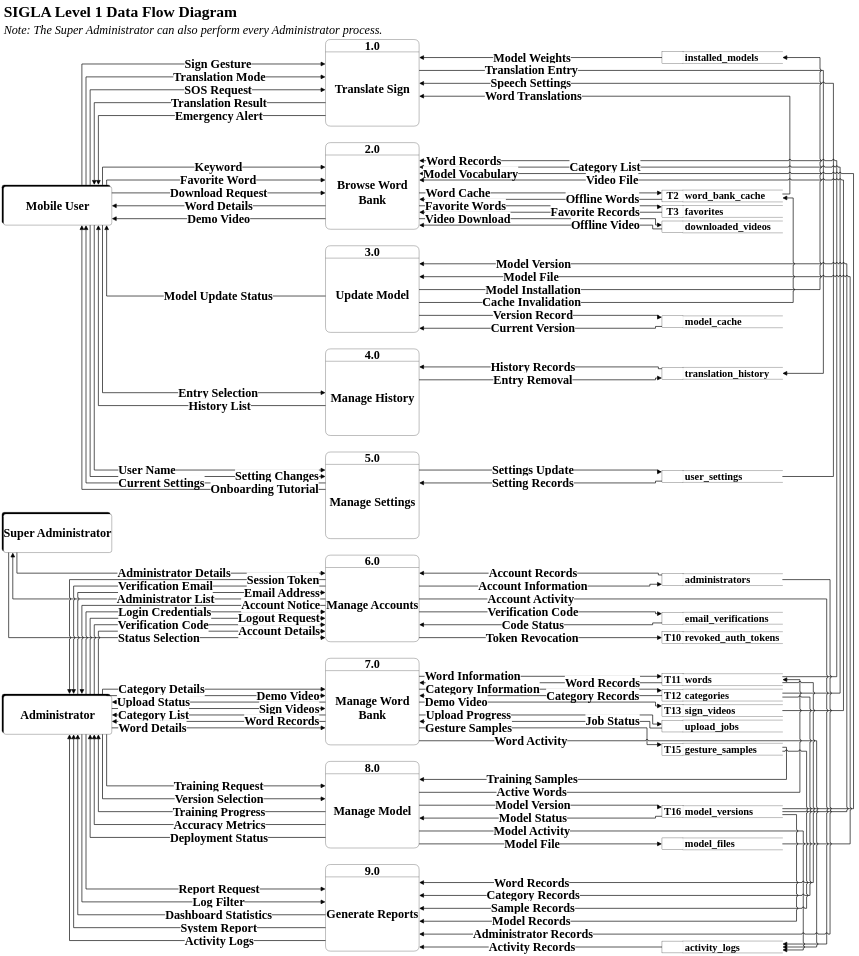
This 859x956 diagram has some shape labels left out. Here are the shapes that lost their labels. From the top down, the centre of each, then its label:
[672,57]: T1
[672,227]: T4
[672,322]: T5
[672,373]: T6
[672,476]: T7
[672,579]: T8
[672,618]: T9
[672,726]: T14
[672,844]: T17
[672,947]: T18
